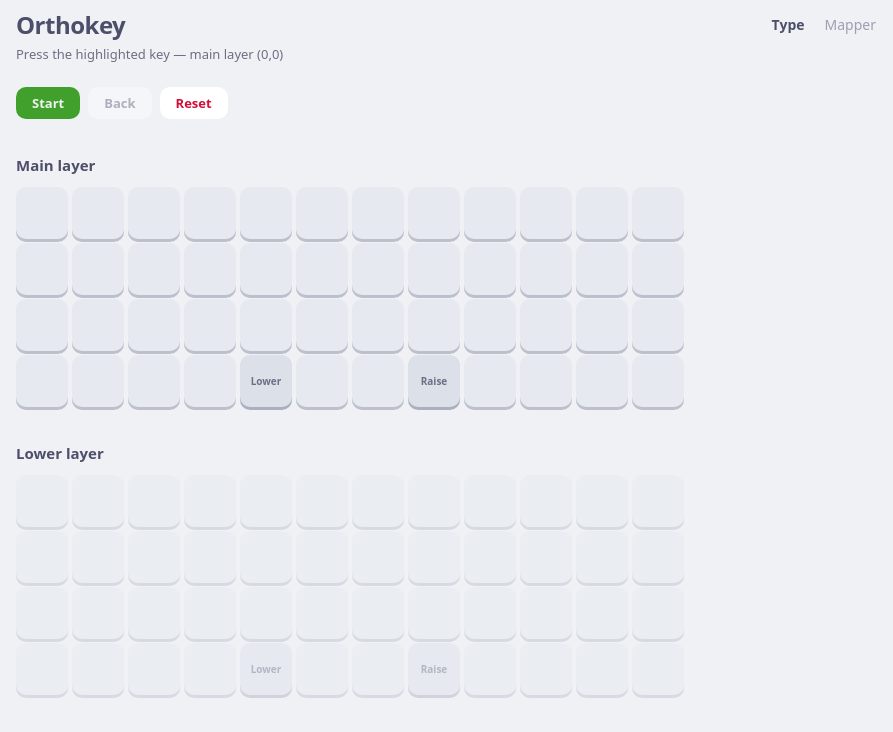
Scenario: start/pause/continue › shows Pause button after clicking Start
What coordinates should you click on to do the following:
click the button "Start"
I would click on:
 (48, 103)
Its box is [16,87,80,119].
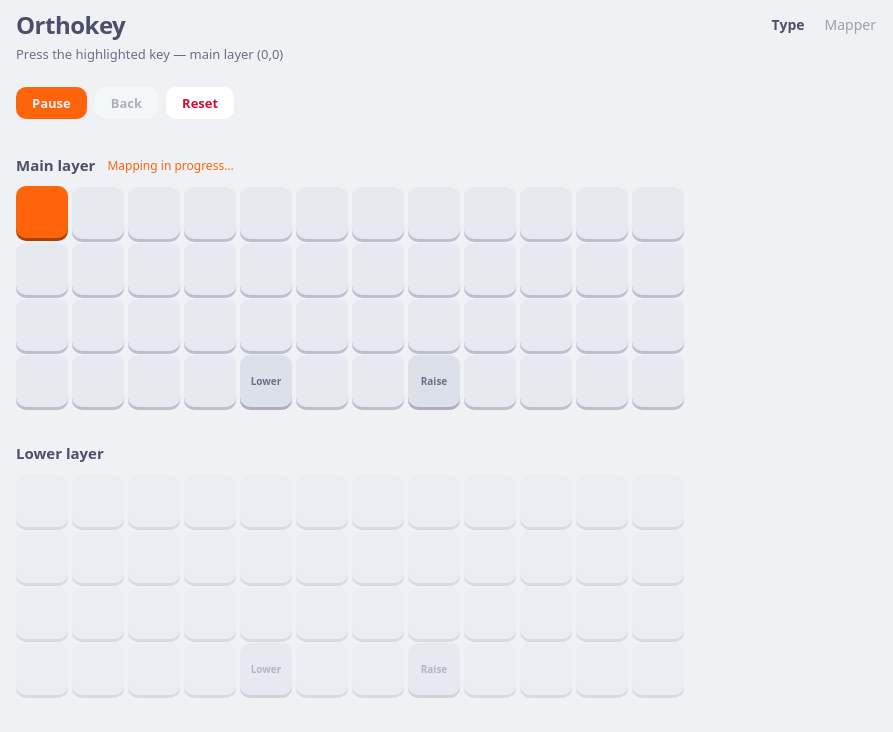
Expected: the button "Pause" is shown, [16,87,87,119]
